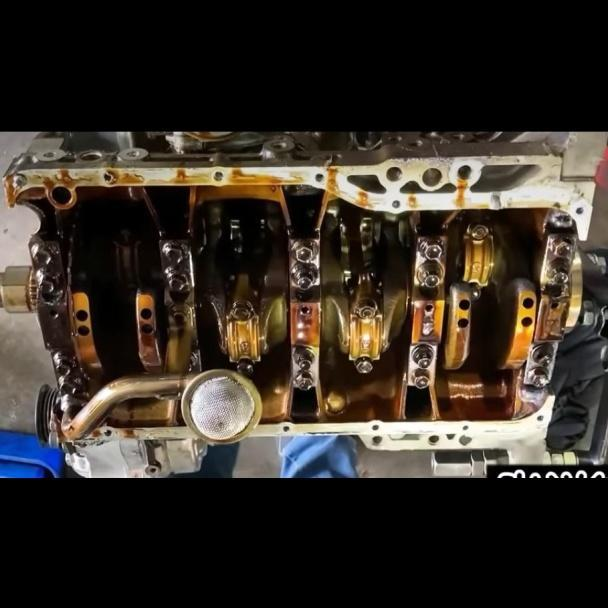hole: (385, 165, 402, 181), (454, 163, 471, 179), (212, 171, 222, 181), (101, 427, 111, 437), (313, 173, 324, 182), (574, 205, 584, 213), (390, 199, 399, 207), (460, 422, 468, 431), (370, 423, 379, 431), (536, 413, 544, 421), (282, 424, 290, 431)
